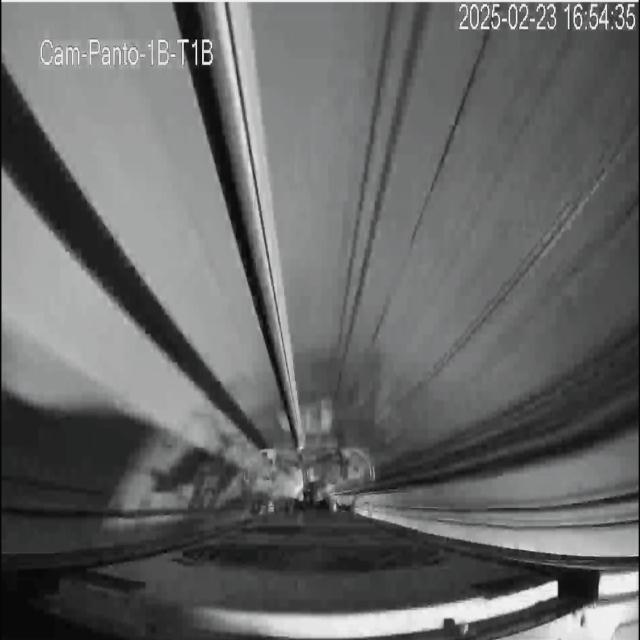Camera Stamp: (38, 34, 215, 70)
Date Stamp: (458, 3, 636, 33)
